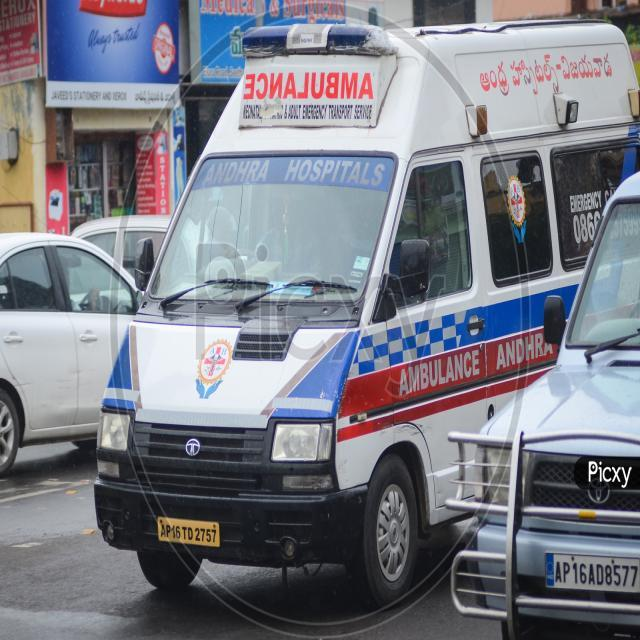ambulance: (97, 23, 639, 601)
